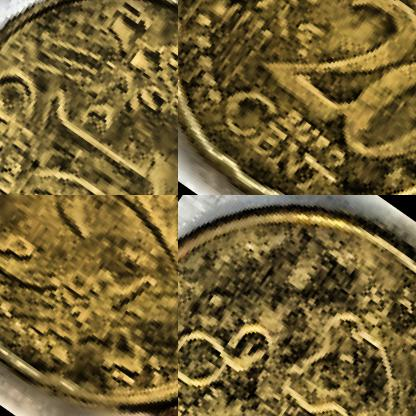coin: (178, 195, 415, 415), (178, 0, 415, 194), (0, 195, 177, 415), (0, 0, 177, 194)
